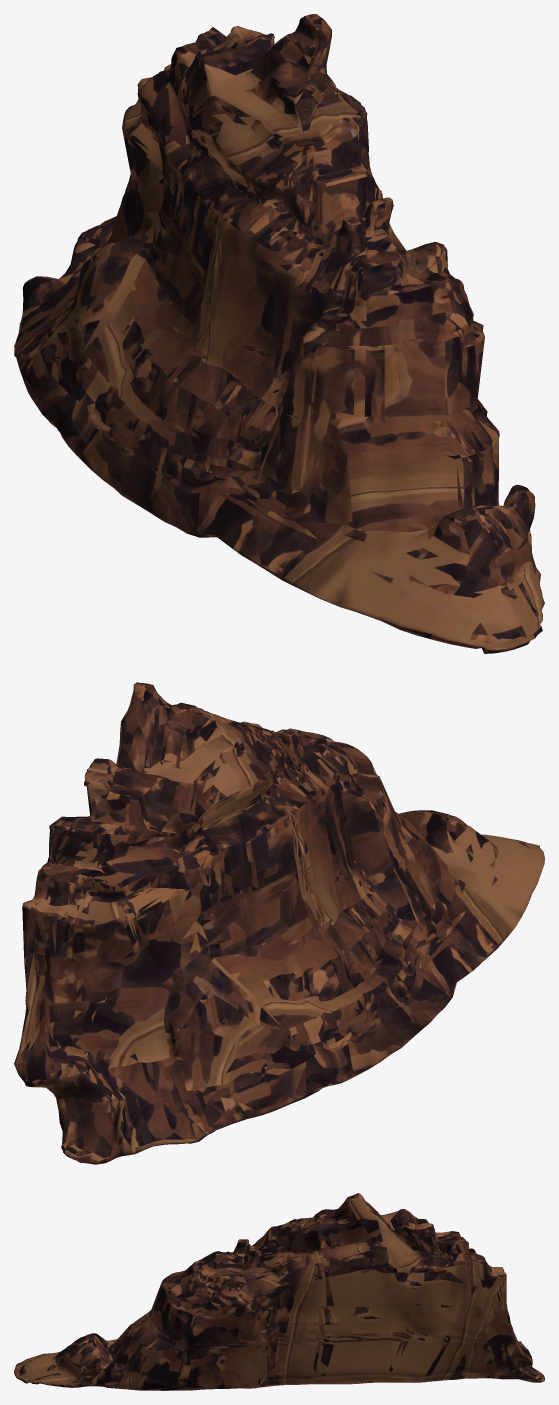
File: Ikmah 3.fbx
The picture shows the model from 3 angles, top to bottom: view 1: azimuth 30°, elevation 25°; view 2: azimuth 150°, elevation 25°; view 3: azimuth 270°, elevation 25°; orthographic projection. The views are drawn at different scales.
Visible parts, largest first — view 1: tripo_node_8fe8f1bb; view 2: tripo_node_8fe8f1bb; view 3: tripo_node_8fe8f1bb.
Boxes of the visible parts, x1,y1,x2,y2 form: tripo_node_8fe8f1bb: [14, 14, 544, 653]; tripo_node_8fe8f1bb: [14, 682, 544, 1164]; tripo_node_8fe8f1bb: [14, 1193, 544, 1390].
Bounding box in the file's own units: 0.3188 × 0.4459 × 0.9993.
